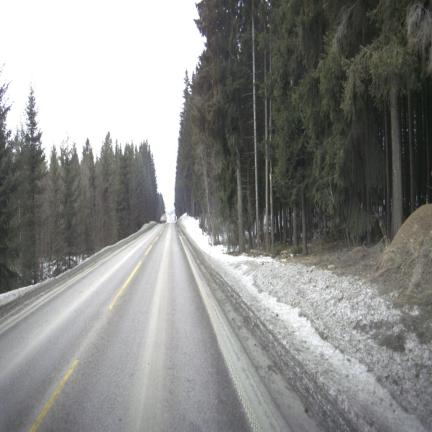Road: (0, 224, 284, 430)
